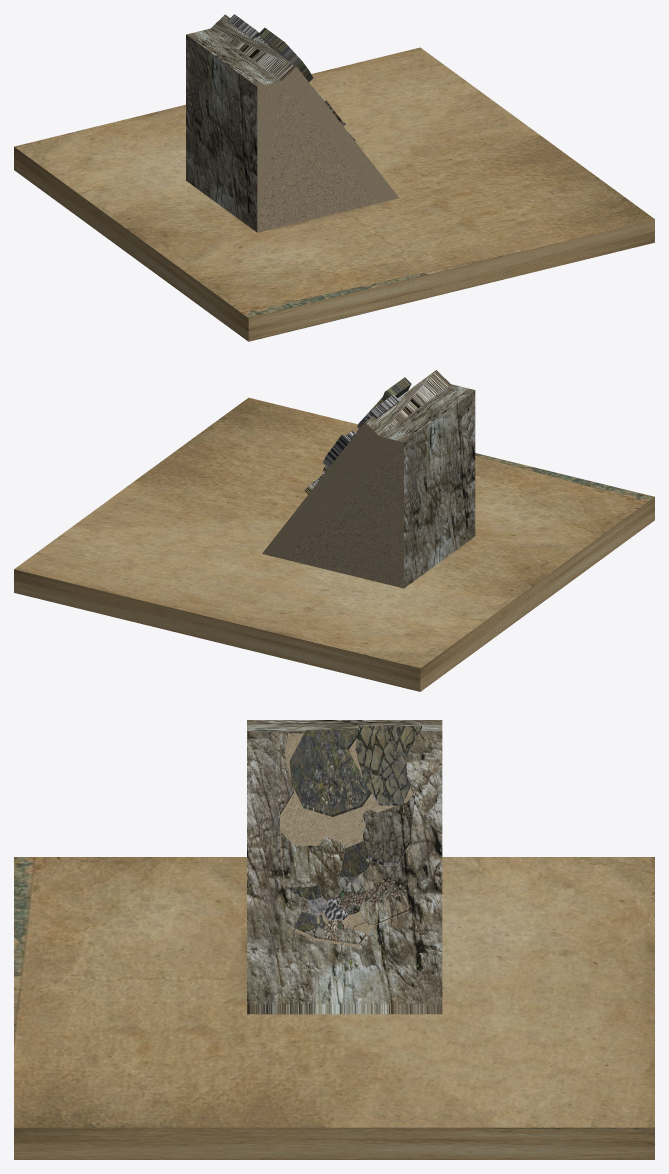
Rendered from 崩积物崩塌.gltf.
3 views of the same model, one above another, from view 1: azimuth 30°, elevation 25°; view 2: azimuth 150°, elevation 25°; view 3: azimuth 270°, elevation 25° (orthographic). The views are drawn at different scales.
Visible parts, largest first — view 1: node_Cube_-132526, node_Box002_-131386, node_024_-131436; view 2: node_Cube_-132526, node_Box002_-131386; view 3: node_Cube_-132526, node_Box002_-131386, node_024_-131436, node_002_-131392, node_005_-131398, node_006_-131400, node_007_-131402, node_008_-131404.
Boxes of the visible parts, x1,y1,x2,y2 form: node_Cube_-132526: (14, 47, 654, 341); node_Box002_-131386: (186, 14, 399, 232); node_024_-131436: (259, 27, 313, 82); node_Cube_-132526: (14, 397, 654, 691); node_Box002_-131386: (262, 370, 475, 588); node_Cube_-132526: (14, 857, 654, 1159); node_Box002_-131386: (247, 720, 442, 1014); node_024_-131436: (289, 730, 370, 816); node_002_-131392: (355, 726, 421, 805); node_005_-131398: (363, 791, 415, 865); node_006_-131400: (281, 832, 345, 887); node_007_-131402: (340, 840, 369, 877); node_008_-131404: (357, 860, 397, 890).
Bounding box in the file's own units: 5.01 × 2.19 × 5.01.
